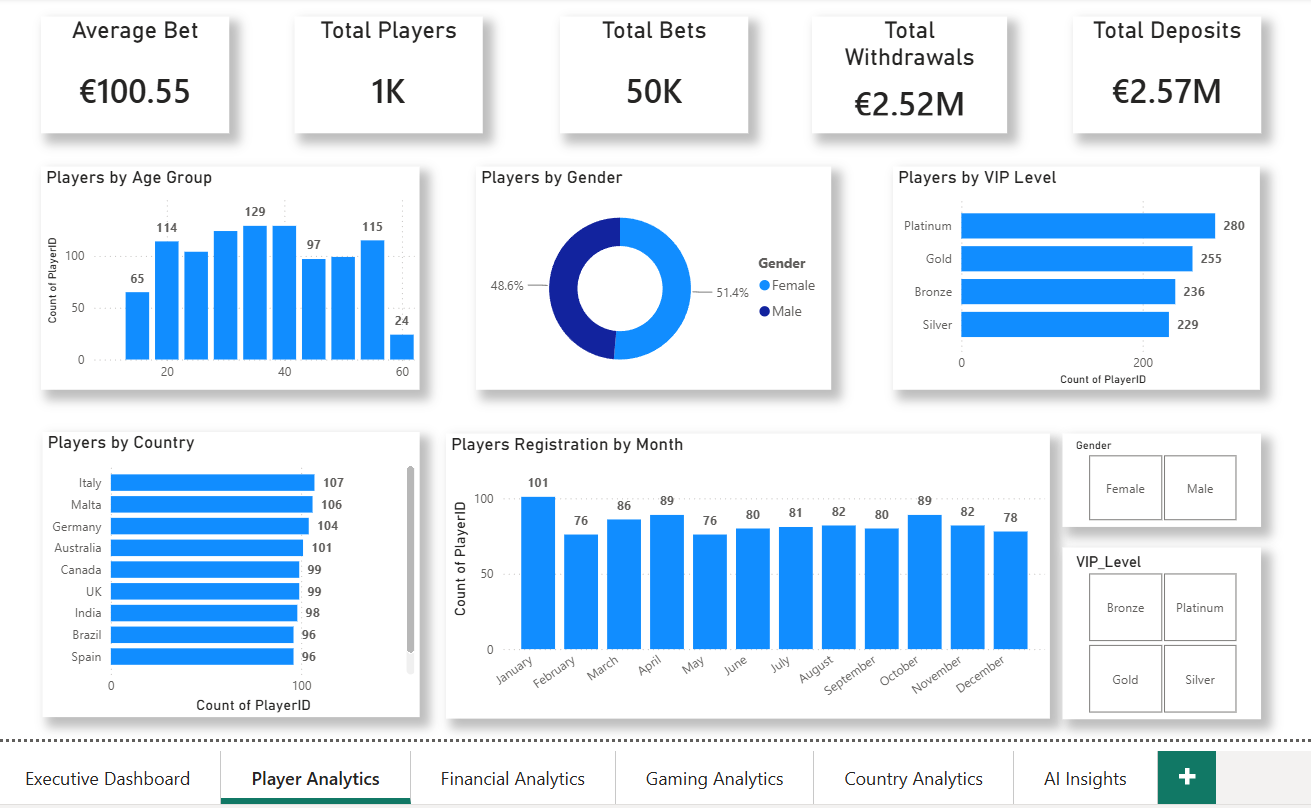

What the dashboard file says about the page in this screenshot:
{"tool":"powerbi","page":{"name":"Player Analytics","canvas":[1280,720],"ordinal":1},"visuals":[{"type":"cardVisual","title":"Total Deposits","fields":{"Data":["kpi_summary.Total Deposits"]},"box":[1044.4,19.4,183,113.3],"z":0},{"type":"cardVisual","title":"Total Withdrawals","fields":{"Data":["kpi_summary.Total Withdrawals"]},"box":[791.8,19.4,189.4,113.3],"z":1000},{"type":"cardVisual","title":"Total Bets","fields":{"Data":["kpi_summary.Total Bets"]},"box":[547.3,19.4,183,113.3],"z":2000},{"type":"cardVisual","title":"Total Players","fields":{"Data":["kpi_summary.Total Players"]},"box":[289.8,19.4,183,113.3],"z":3000},{"type":"cardVisual","title":"Average Bet","fields":{"Data":["kpi_summary.Average Bet"]},"box":[43.7,19.4,183,113.3],"z":4000},{"type":"clusteredColumnChart","title":"Players by Age Group","fields":{"Y":["CountNonNull(player_details.PlayerID)"],"Category":["player_details.Age (bins)"]},"box":[43.7,165.2,367.6,217],"z":5000},{"type":"donutChart","title":"Players by Gender","fields":{"Category":["player_details.Gender"],"Y":["CountNonNull(player_details.PlayerID)"]},"box":[466.3,165.2,344.9,217],"z":6000},{"type":"barChart","title":"Players by VIP Level","fields":{"Category":["player_details.VIP_Level"],"Y":["CountNonNull(player_details.PlayerID)"]},"box":[871.1,165.2,356.2,217],"z":7000},{"type":"barChart","title":"Players by Country","fields":{"Category":["player_details.Country"],"Y":["CountNonNull(player_details.PlayerID)"]},"box":[45.3,422.6,365.9,276.9],"z":8000},{"type":"columnChart","title":"Players Registration by Month","fields":{"Category":["player_details.Registration_Date.Variation.Date Hierarchy.Month"],"Y":["CountNonNull(player_details.PlayerID)"]},"box":[437.2,424.2,586.2,276.9],"z":9000},{"type":"slicer","fields":{"Values":["player_details.Gender"]},"box":[1034.7,424.2,192.7,90.7],"z":10000},{"type":"slicer","fields":{"Values":["player_details.VIP_Level"]},"box":[1034.7,534.3,192.7,166.8],"z":11000}]}

Visuals, with their boxes on the page's 1280x720 design canvas (x1, y1, x2, y2). These are canvas units, not pixel positions in the 1311x808 screenshot, which may show the page scaled, cropped or inside an application window:
"Total Deposits" cardVisual: (1044,19,1227,133)
"Total Withdrawals" cardVisual: (792,19,981,133)
"Total Bets" cardVisual: (547,19,730,133)
"Total Players" cardVisual: (290,19,473,133)
"Average Bet" cardVisual: (44,19,227,133)
"Players by Age Group" clusteredColumnChart: (44,165,411,382)
"Players by Gender" donutChart: (466,165,811,382)
"Players by VIP Level" barChart: (871,165,1227,382)
"Players by Country" barChart: (45,423,411,700)
"Players Registration by Month" columnChart: (437,424,1023,701)
slicer - player_details.Gender: (1035,424,1227,515)
slicer - player_details.VIP_Level: (1035,534,1227,701)
